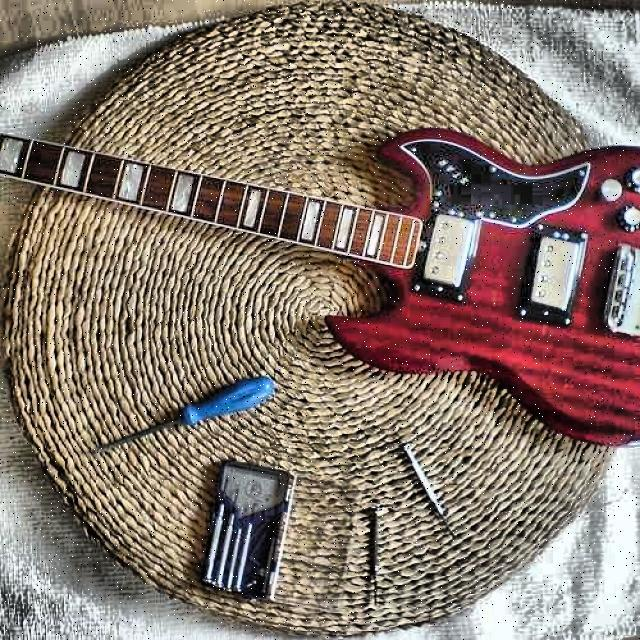screwdriver: (98, 376, 274, 452)
